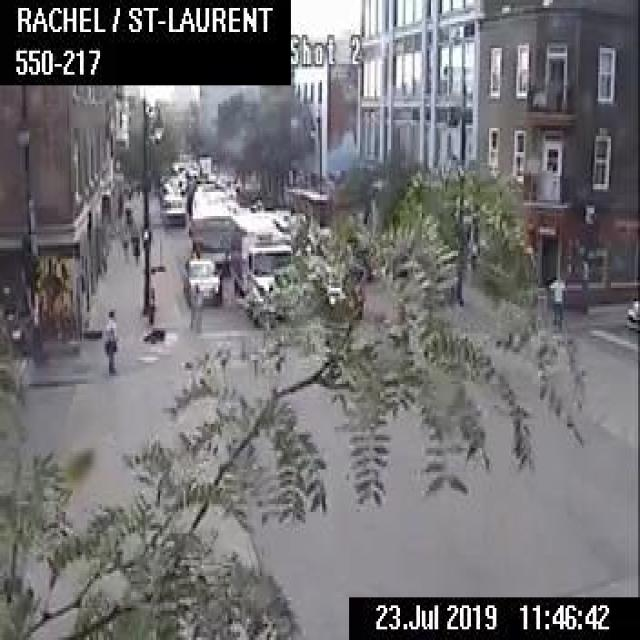bus: (189, 186, 232, 268)
pedestrian: (98, 302, 116, 374), (548, 269, 566, 328), (120, 221, 140, 267)
vehicle: (231, 212, 297, 318), (310, 253, 360, 316), (181, 255, 220, 305), (158, 191, 185, 224), (624, 294, 638, 334)
